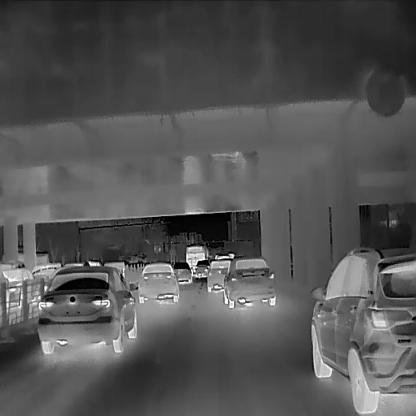bus: (183, 242, 209, 273), (16, 248, 49, 265)
car: (310, 244, 415, 413), (36, 264, 138, 353), (220, 254, 276, 307), (137, 261, 179, 302), (2, 268, 44, 306), (204, 256, 232, 292), (103, 258, 133, 291), (31, 261, 64, 285), (172, 260, 191, 282), (194, 258, 209, 277)
